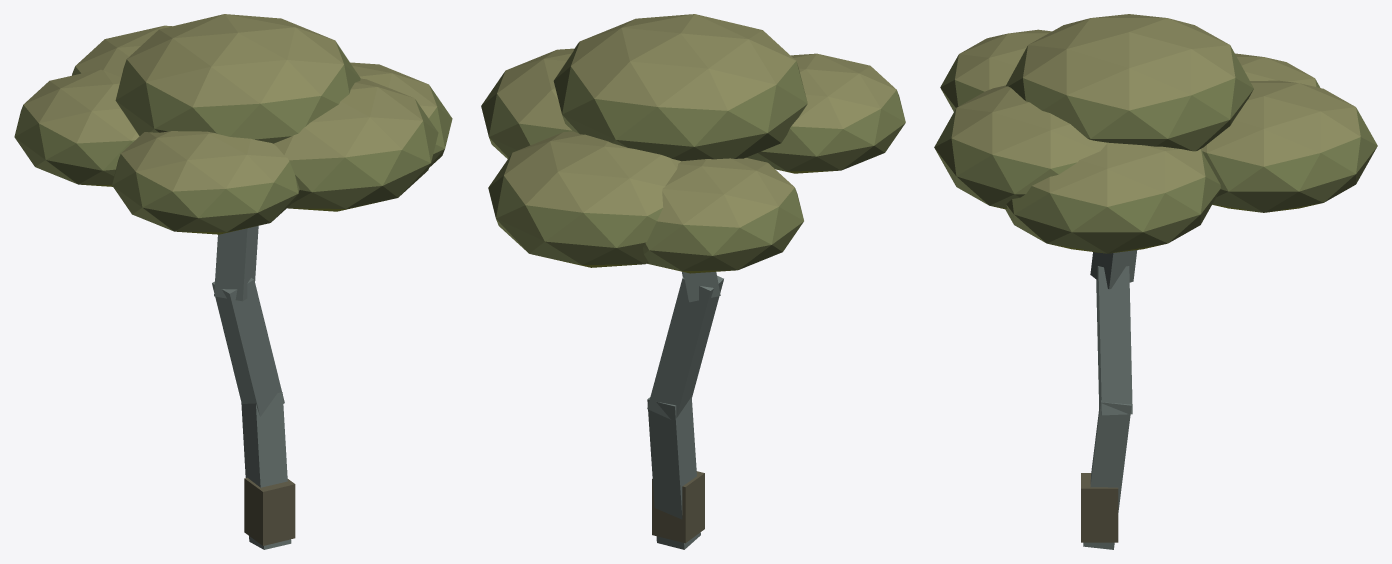
Rendered from SM_Pino_v0_LOD0.fbx.
3 views of the same model, side by side, from view 1: azimuth 30°, elevation 25°; view 2: azimuth 150°, elevation 25°; view 3: azimuth 270°, elevation 25° (orthographic). The views are drawn at different scales.
Visible parts, largest first — view 1: SM_pino_v0_LOD0; view 2: SM_pino_v0_LOD0; view 3: SM_pino_v0_LOD0.
Boxes of the visible parts, x1,y1,x2,y2 form: SM_pino_v0_LOD0: (14,14,452,549); SM_pino_v0_LOD0: (481,14,905,549); SM_pino_v0_LOD0: (934,14,1377,549).
Bounding box in the file's own units: 6.62 × 9.33 × 7.46.
